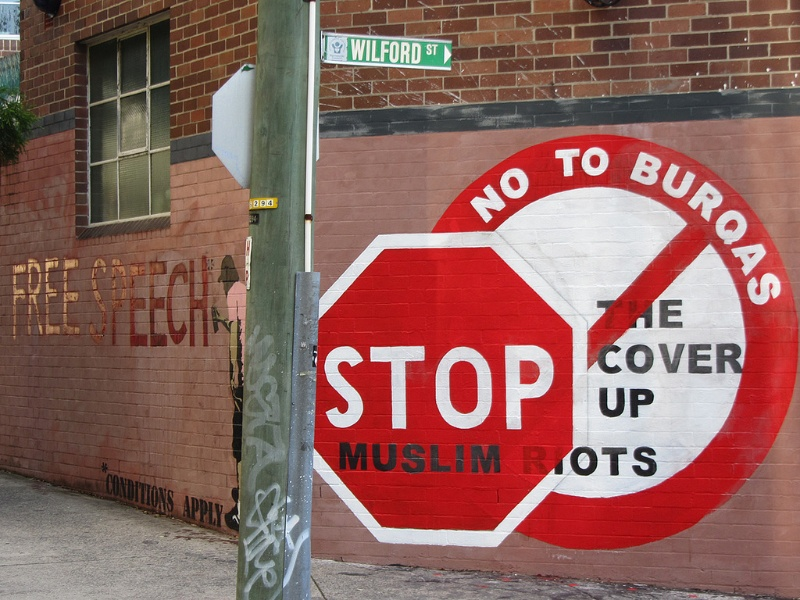stop: (310, 225, 596, 551)
